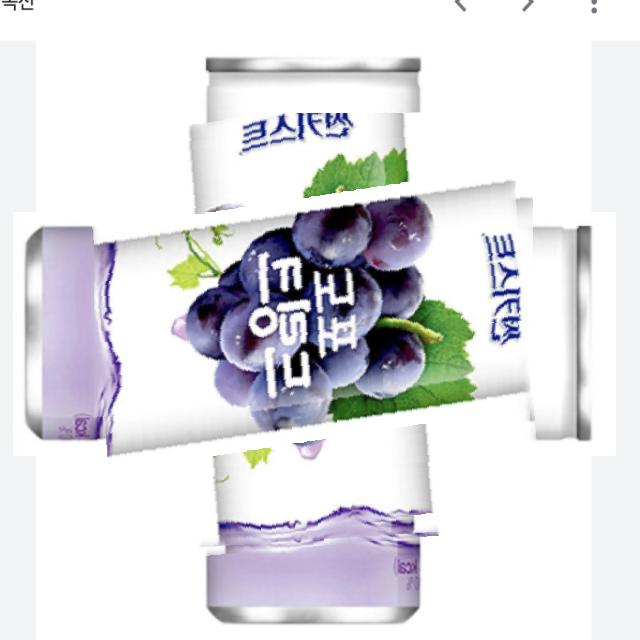recyclable: (94, 113, 535, 555)
